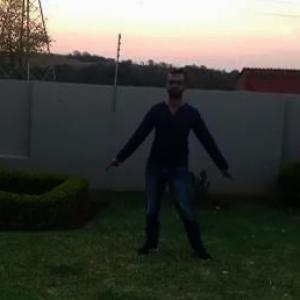land: (113, 57, 249, 285)
